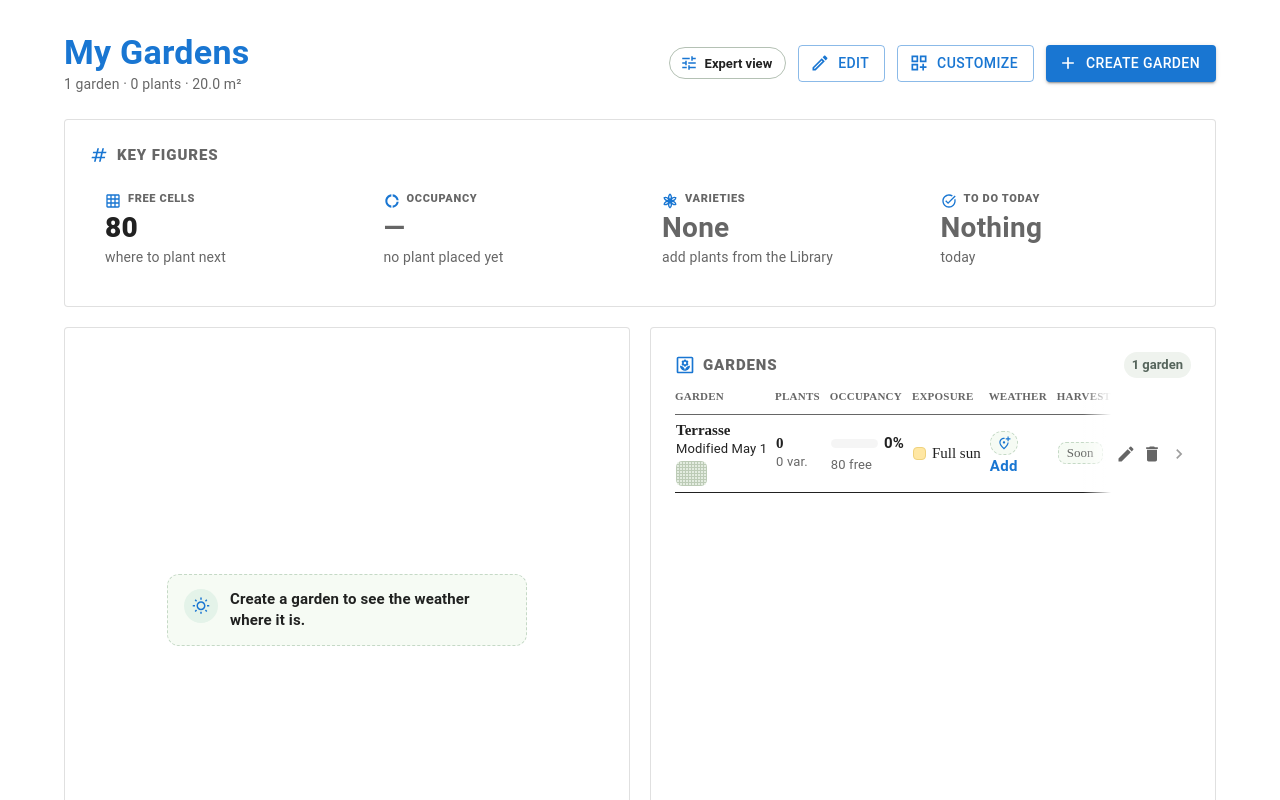
Test: the band’s gear — four emplacements, « Toujours quatre » › ▲ moves a figure up a place, says the new place, keeps the focus — and writes the order
Click the button "Edit": (842, 63) [798,45,885,82]
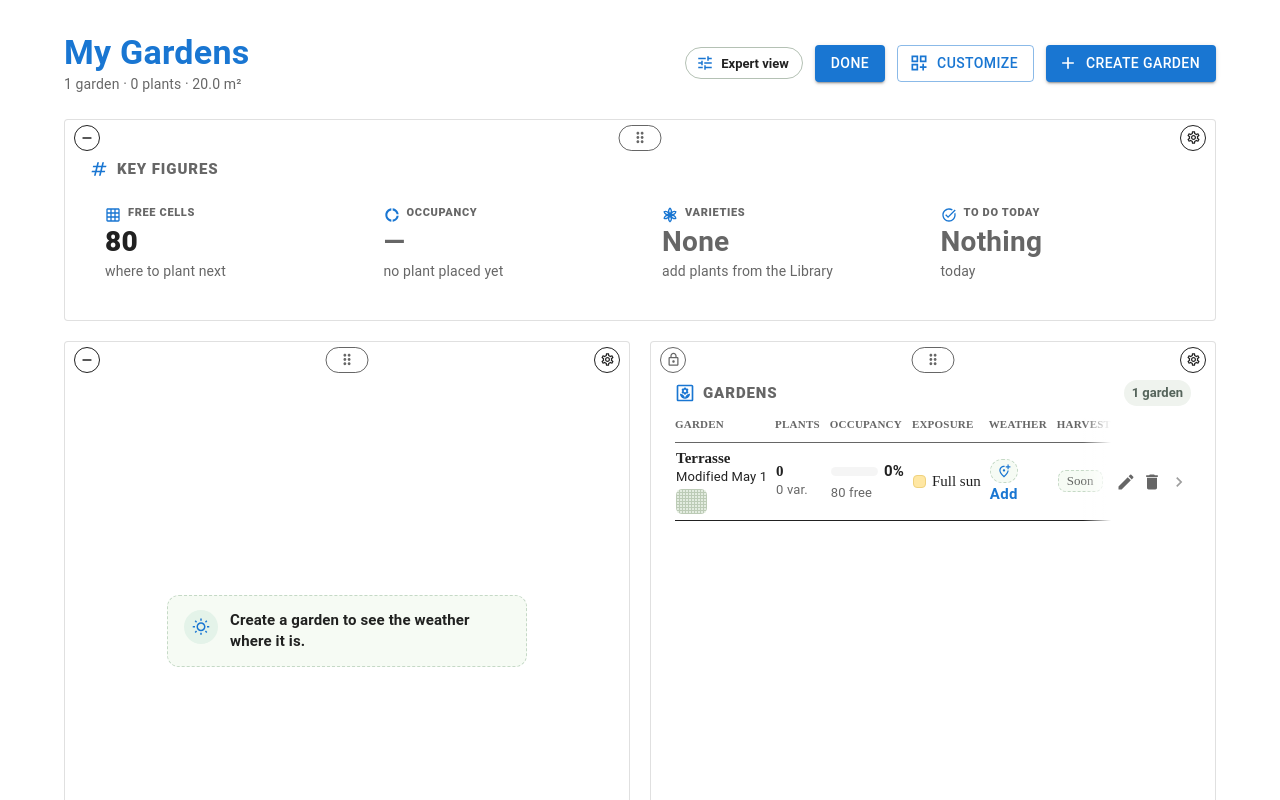
Click the button named "Key figures options": (1193, 138) [1180,125,1206,151]
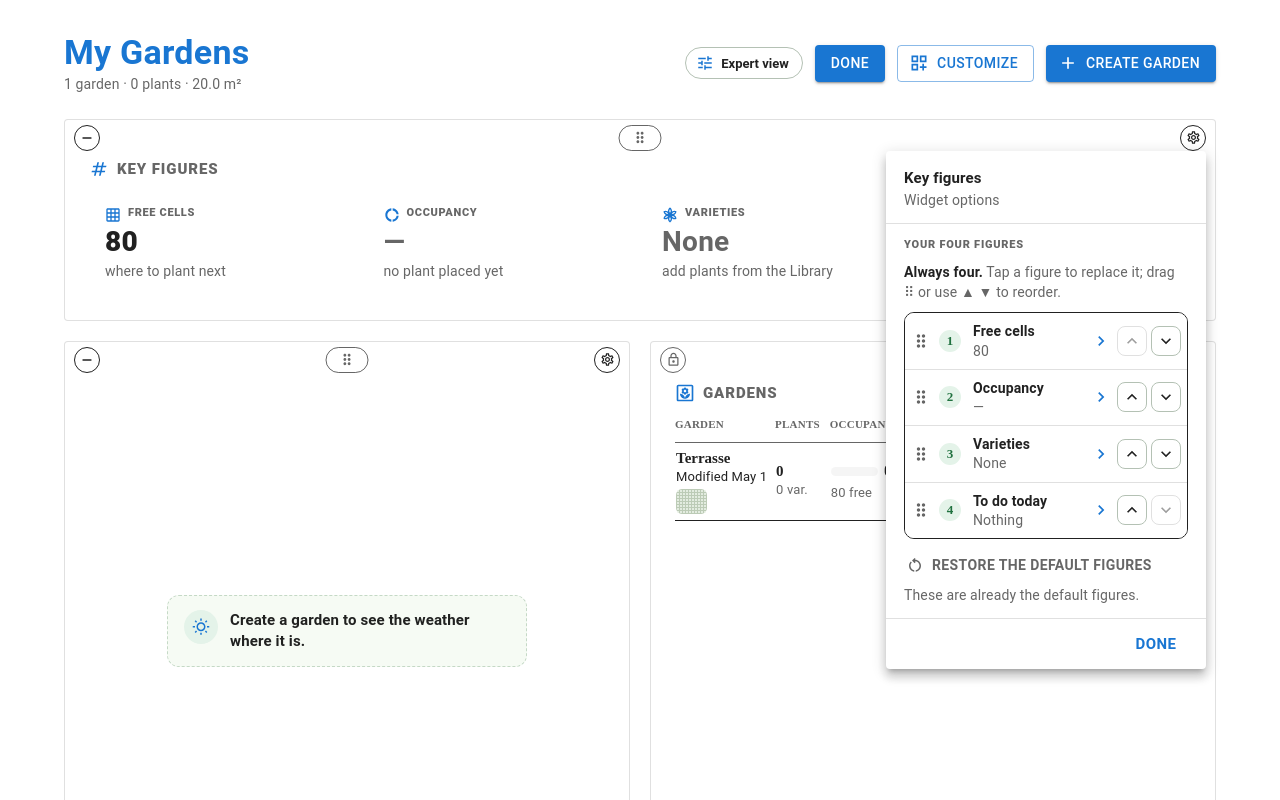
Expected: the text "80" is shown, [973,343,989,359]
Click the button named "Move “Varieties” up": (1132, 454) [1117,439,1147,469]
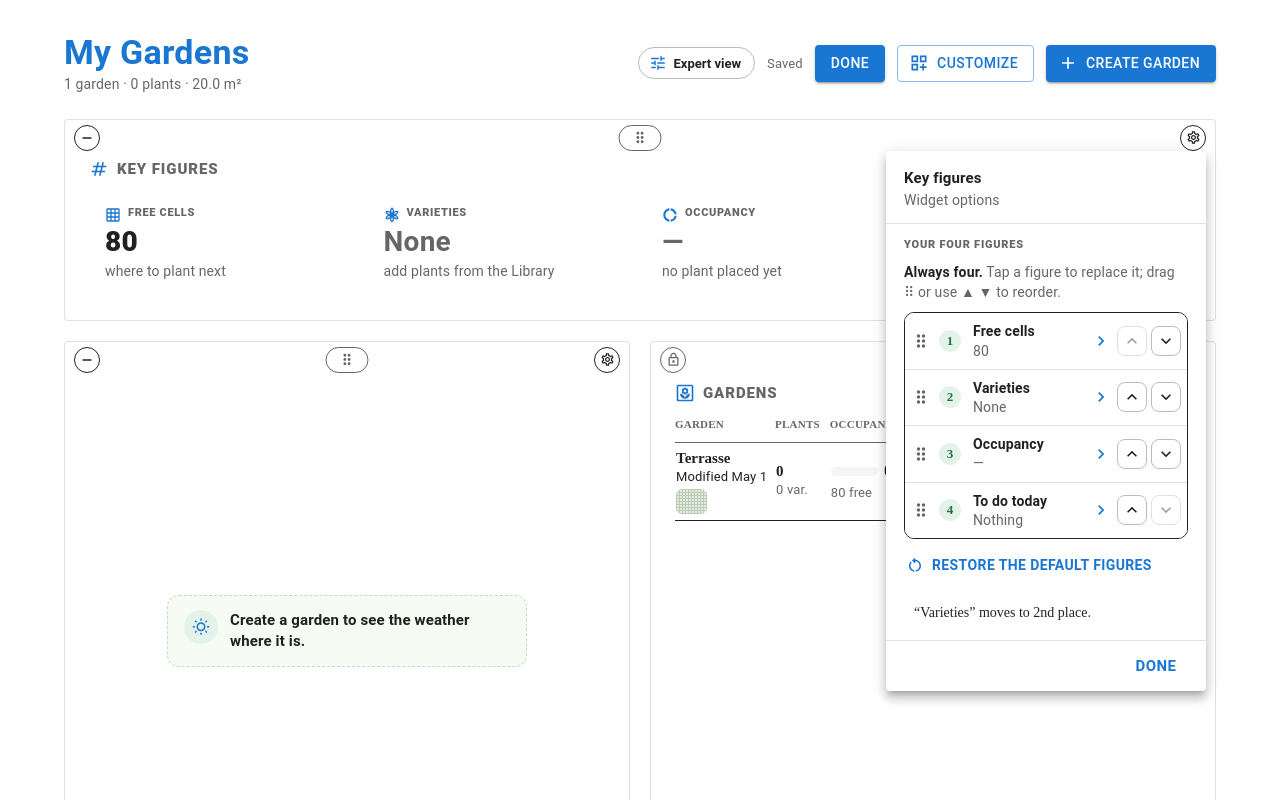
Expected: the message "“Varieties” moves to 2nd place." is shown, [914,605,1091,620]
